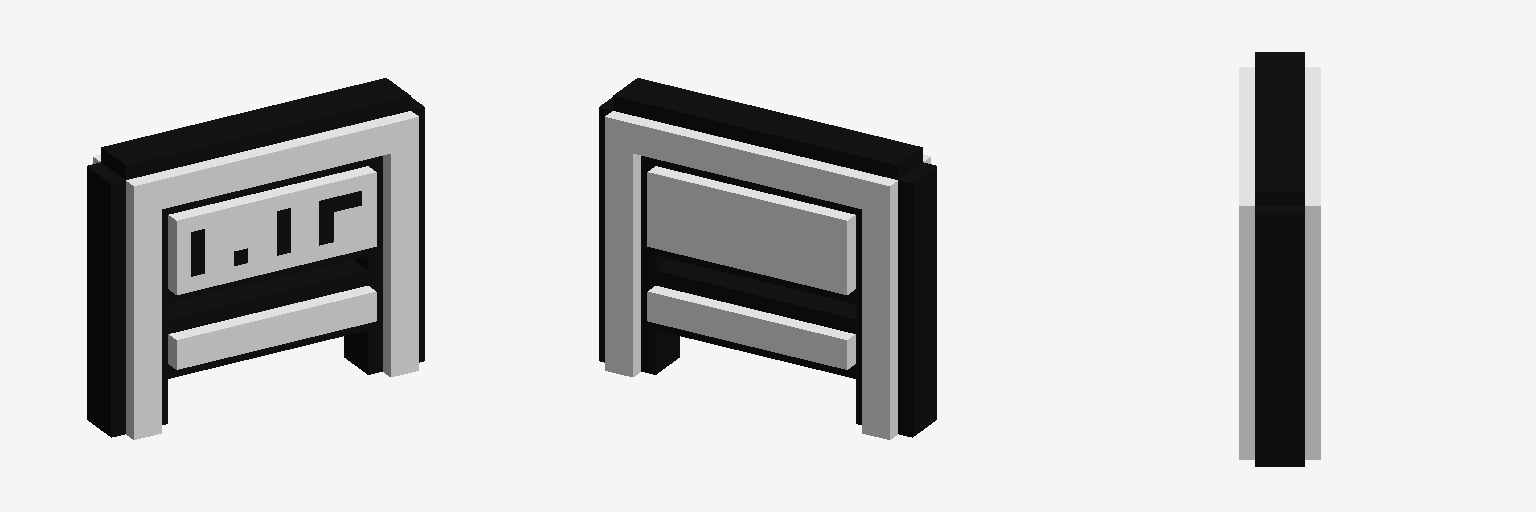
The picture shows the model from 3 angles: view 1: azimuth 30°, elevation 25°; view 2: azimuth 150°, elevation 25°; view 3: azimuth 270°, elevation 25°; orthographic projection.
Parts seen in each view (by area): view 1: Model; view 2: Model; view 3: Model.
Part boxes in pixels (bbox=[...]): Model: bbox=[87, 78, 424, 439]; Model: bbox=[599, 78, 936, 439]; Model: bbox=[1239, 52, 1320, 466].
Bounding box in the file's own units: 22 × 18 × 5.
1 materials, 1 textured.